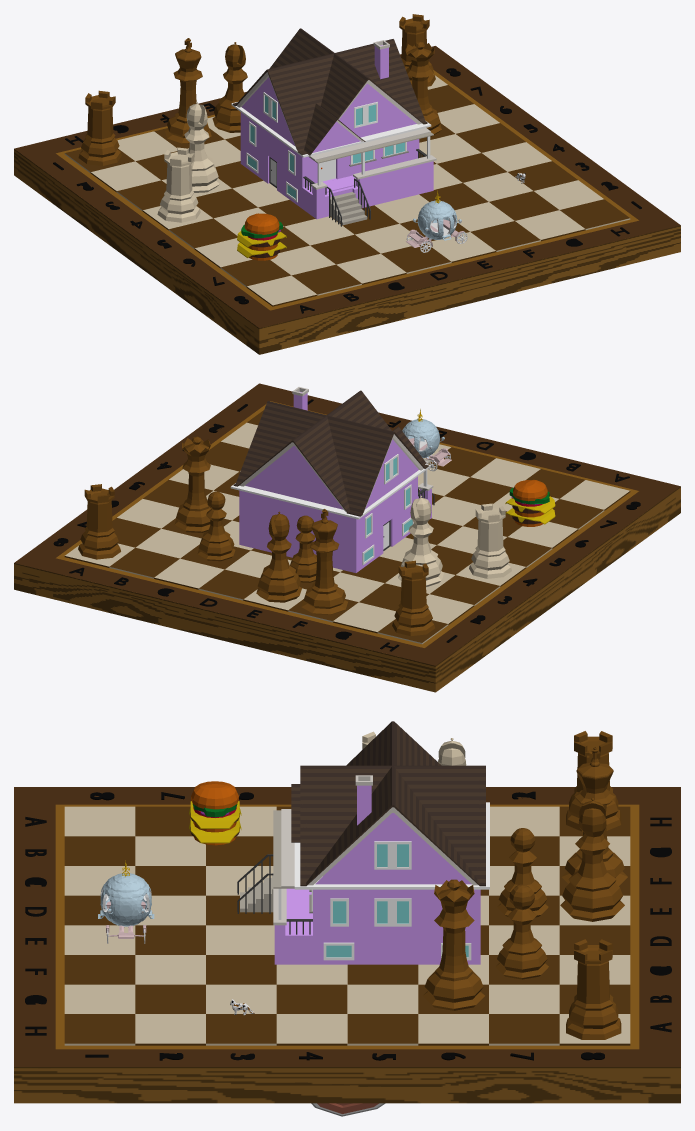
The picture shows the model from 3 angles, top to bottom: view 1: azimuth 30°, elevation 25°; view 2: azimuth 150°, elevation 25°; view 3: azimuth 270°, elevation 25°; orthographic projection. The views are drawn at different scales.
Visible parts, largest first — view 1: Cube.002, Cube.391, VEHICLES_FANTASY_CARRIAGE, OBJRANDOM_HAMBURGER; view 2: Cube.002, Cube.391, OBJRANDOM_HAMBURGER, VEHICLES_FANTASY_CARRIAGE; view 3: Cube.002, Cube.391, OBJRANDOM_HAMBURGER, VEHICLES_FANTASY_CARRIAGE, UNDERGROUND_TREASURE.
Boxes of the visible parts, x1,y1,x2,y2 form: Cube.002: (14,14,680,354); Cube.391: (231,28,436,226); VEHICLES_FANTASY_CARRIAGE: (406,190,467,252); OBJRANDOM_HAMBURGER: (237,213,286,260); Cube.002: (14,383,680,692); Cube.391: (230,387,434,572); OBJRANDOM_HAMBURGER: (505,479,555,526); VEHICLES_FANTASY_CARRIAGE: (402,409,451,471); Cube.002: (14,731,680,1103); Cube.391: (237,721,489,964); OBJRANDOM_HAMBURGER: (189,781,241,845); VEHICLES_FANTASY_CARRIAGE: (98,860,154,943); UNDERGROUND_TREASURE: (311,1103,385,1116).
Size of the model in its own units: 3981 by 2201 by 4012.
Materials: 40 (2 with a texture image).
